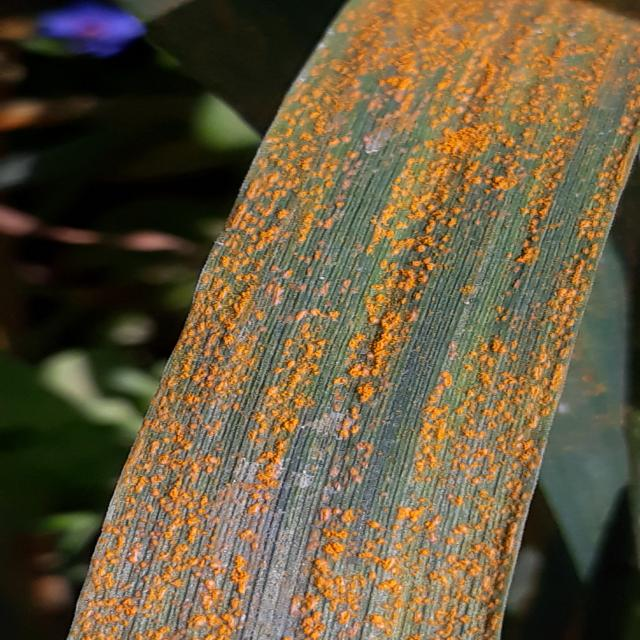yellow_rust: (52, 0, 634, 640)
